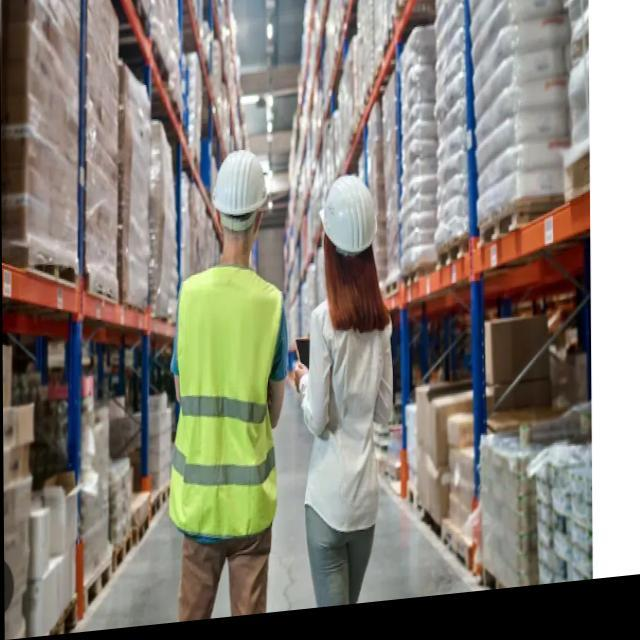hard_hat: (317, 169, 382, 281), (210, 146, 269, 257)
vest: (169, 256, 284, 546)
